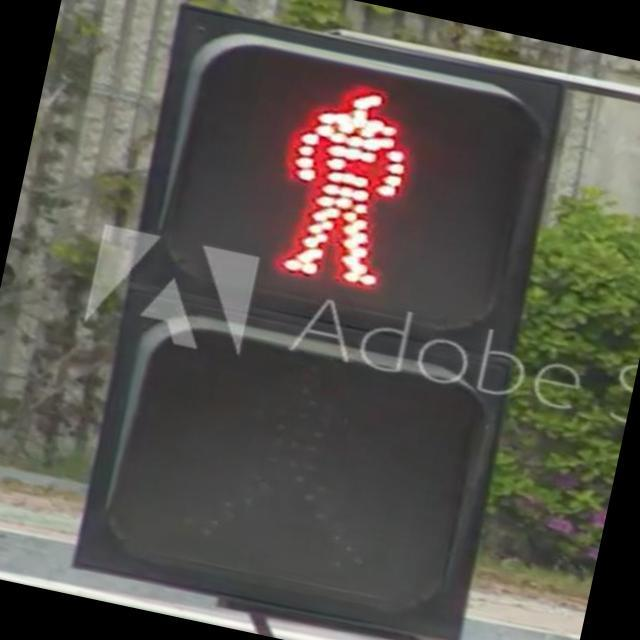redlight: (59, 12, 564, 640)
